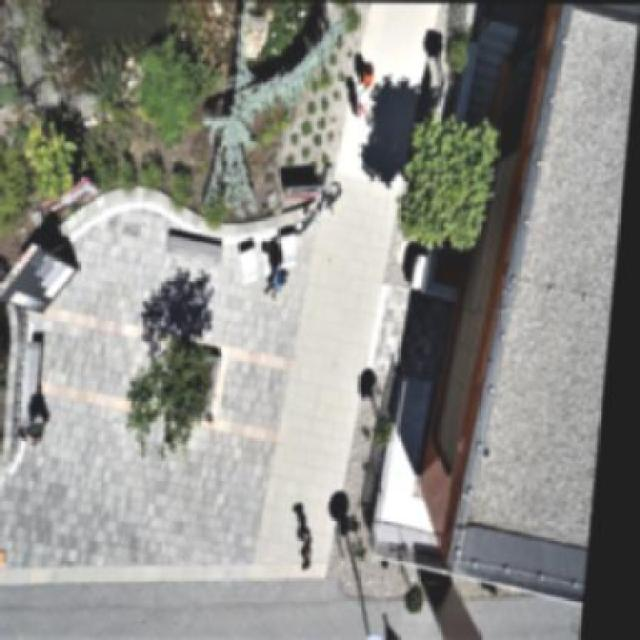Person: (264, 260, 304, 303), (303, 532, 339, 579), (22, 407, 59, 451), (351, 83, 378, 114), (358, 52, 385, 82)
